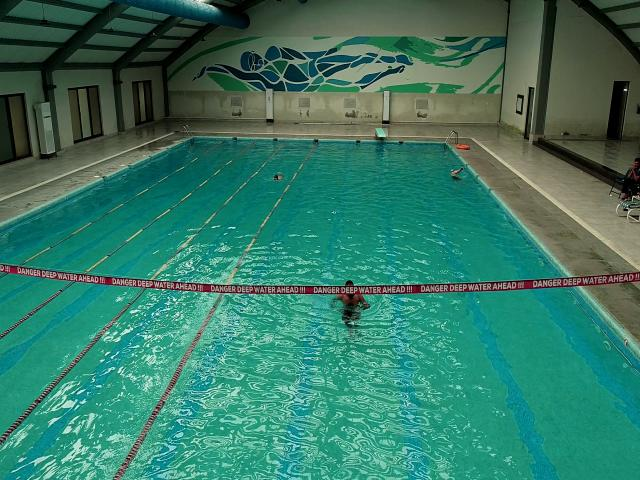out of water: (620, 156, 640, 206)
swimming: (326, 278, 371, 328), (449, 166, 463, 182), (272, 172, 282, 184)
